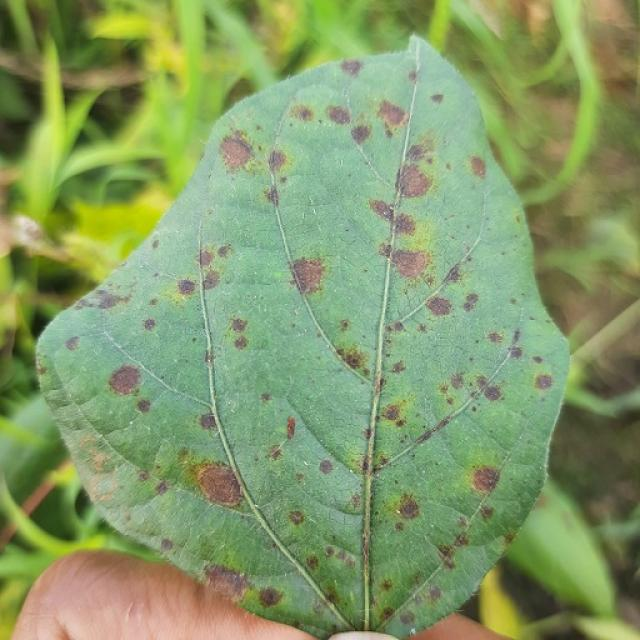Anthracnose: (370, 204, 442, 288), (218, 122, 289, 186), (165, 245, 234, 308), (274, 250, 335, 300), (197, 463, 244, 506), (368, 195, 417, 230), (287, 255, 329, 294), (204, 564, 248, 598), (396, 162, 432, 198), (78, 288, 132, 312), (334, 343, 372, 377), (389, 247, 429, 279), (86, 464, 121, 500), (106, 363, 143, 397), (436, 529, 471, 564), (220, 134, 255, 168), (469, 373, 506, 404), (376, 99, 409, 131), (226, 314, 251, 351), (470, 465, 500, 493), (390, 212, 416, 235), (424, 296, 452, 317), (397, 496, 421, 520), (288, 103, 315, 123), (258, 586, 282, 607), (326, 105, 351, 125), (370, 199, 393, 220), (268, 149, 287, 174), (340, 59, 363, 77), (351, 124, 371, 144), (470, 156, 487, 179), (343, 351, 363, 370), (202, 270, 221, 290), (445, 263, 464, 283), (91, 452, 111, 471), (176, 278, 197, 296), (382, 403, 401, 421), (482, 384, 502, 401), (199, 412, 217, 430), (197, 248, 214, 267), (534, 373, 553, 390), (267, 444, 284, 461), (265, 185, 279, 205), (230, 317, 247, 333), (288, 510, 304, 526), (286, 415, 296, 440), (136, 398, 151, 414), (217, 243, 233, 258), (64, 336, 80, 351), (318, 459, 333, 475), (486, 331, 504, 344), (479, 505, 494, 520), (450, 373, 464, 389), (233, 336, 248, 350), (155, 480, 169, 495), (428, 585, 442, 600), (508, 346, 523, 359), (306, 555, 319, 570), (390, 361, 405, 374), (143, 318, 157, 331), (137, 469, 150, 482), (430, 92, 444, 104), (361, 457, 371, 473), (407, 70, 419, 83), (381, 579, 393, 592), (512, 328, 522, 343), (260, 392, 271, 403), (339, 319, 349, 331), (532, 355, 543, 364)
Blackgram: (36, 38, 568, 636)
